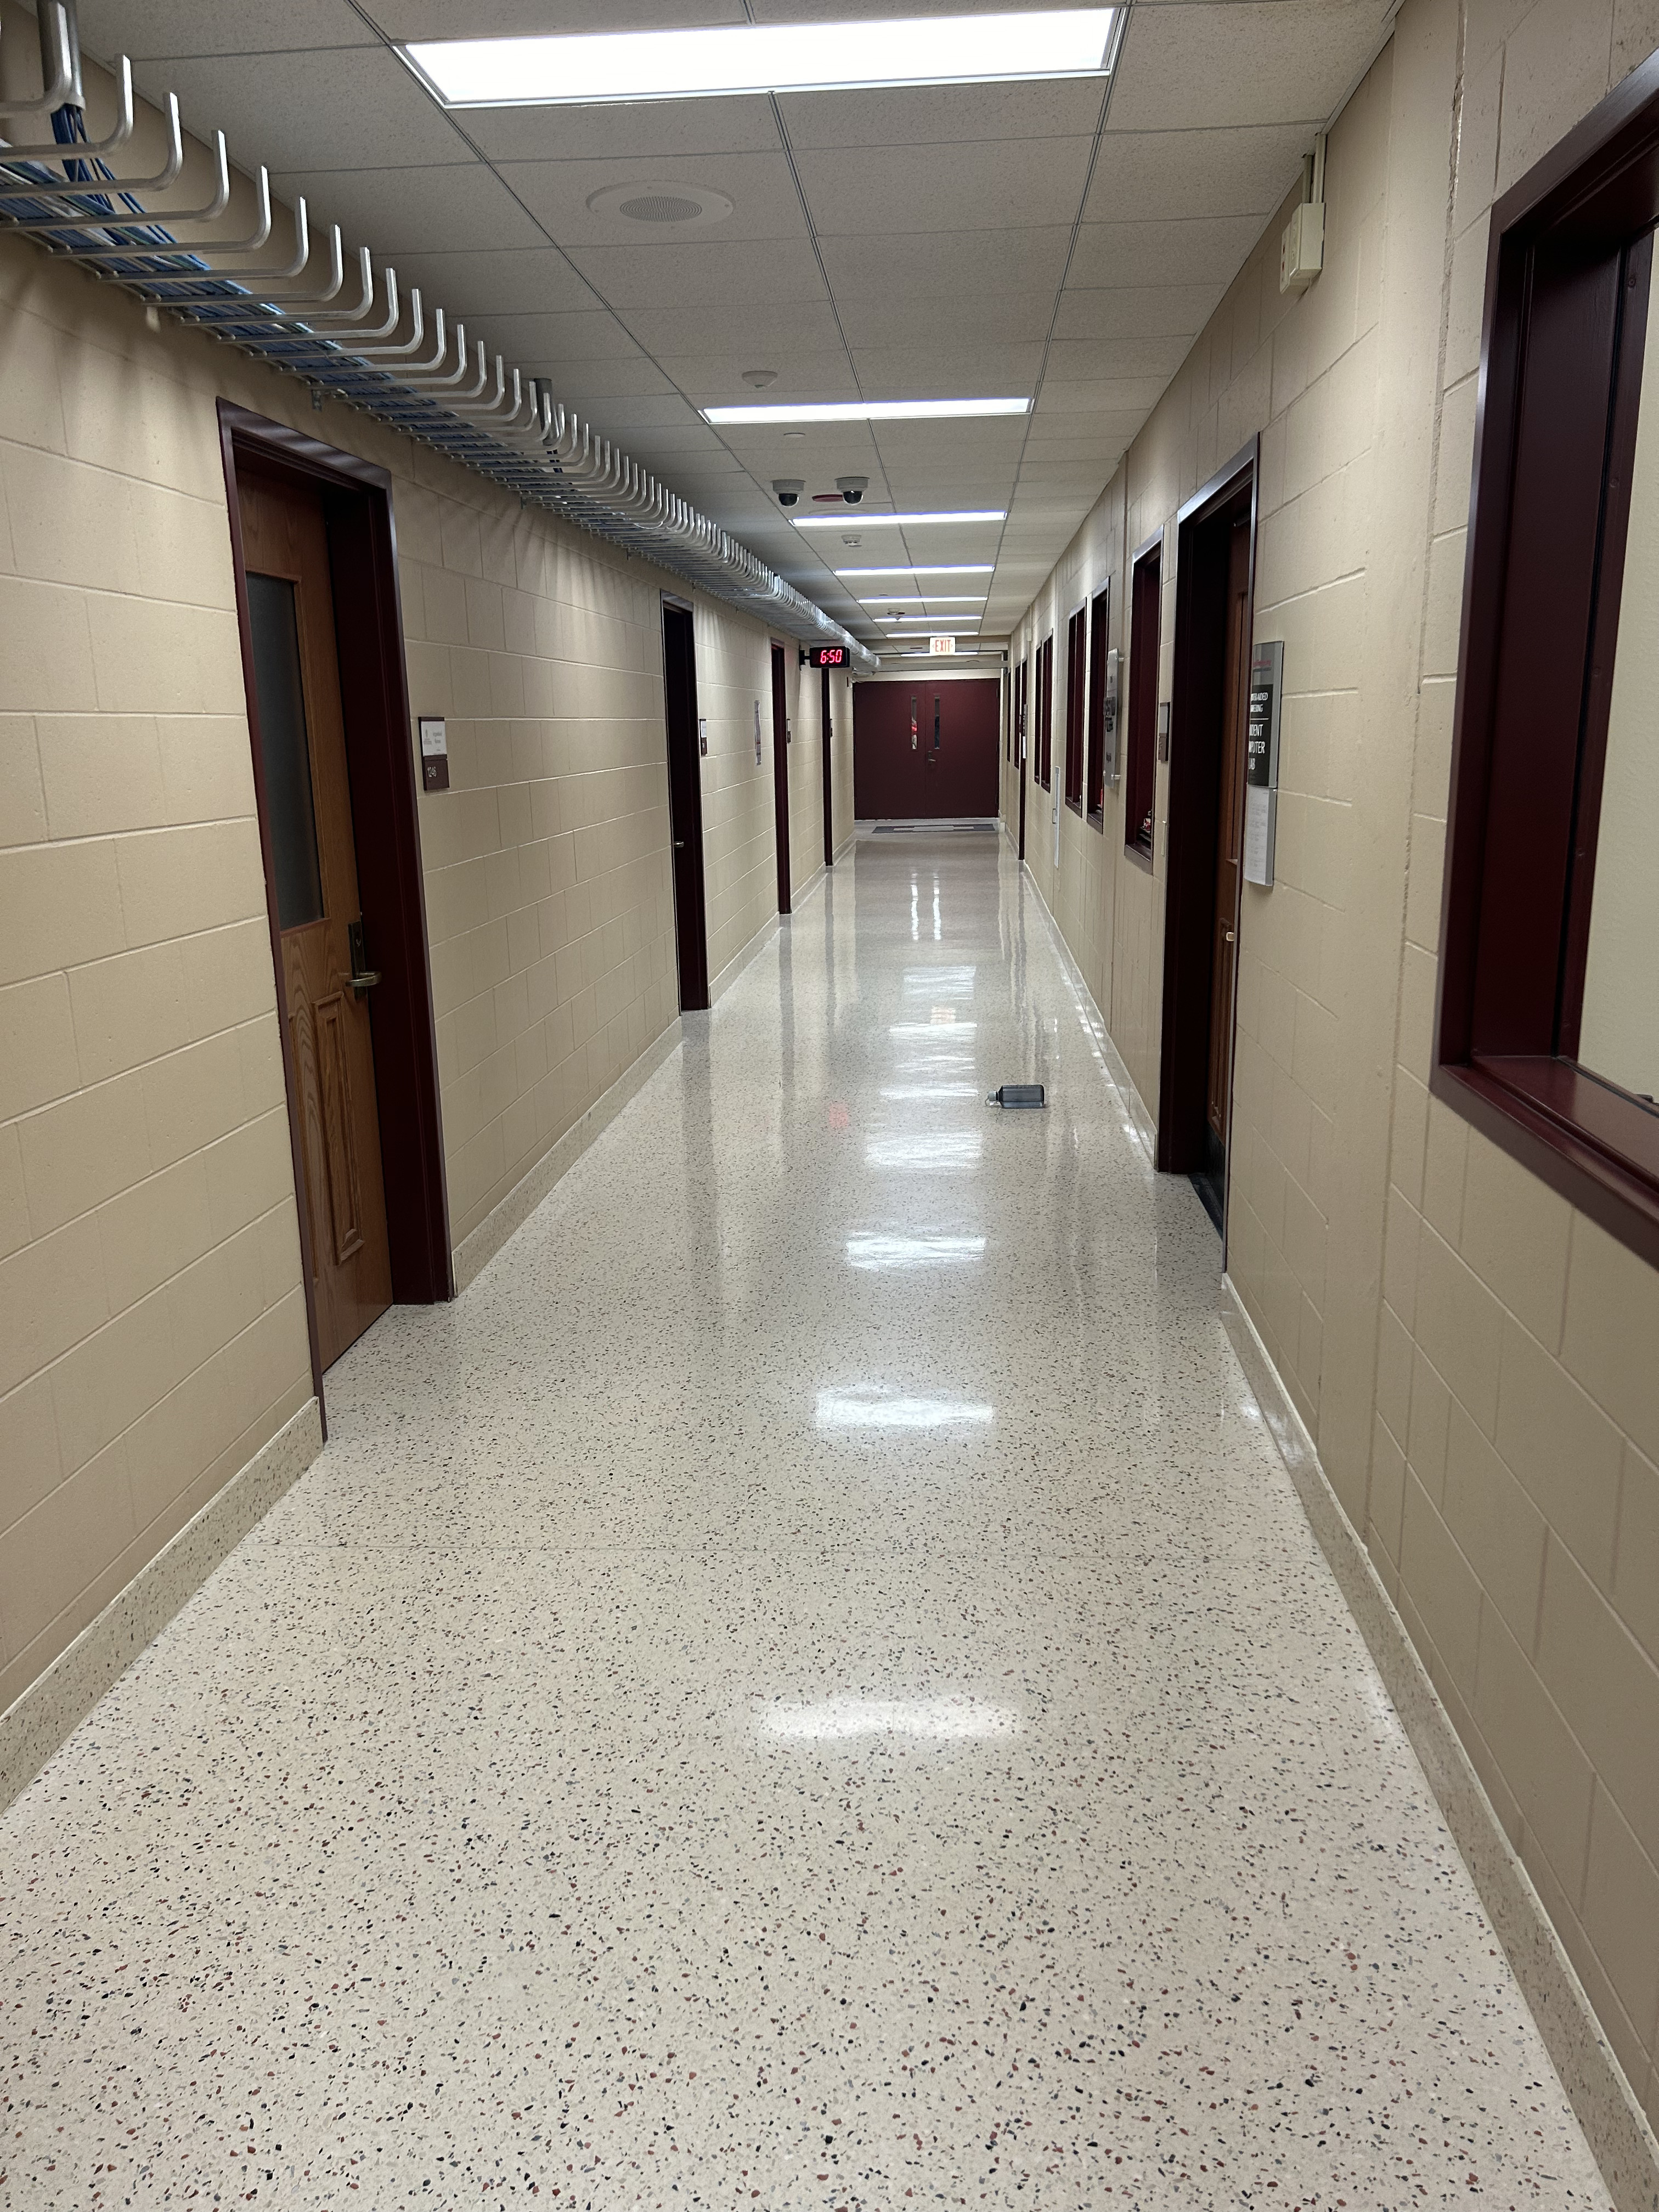bottle: (986, 1071, 1049, 1118)
